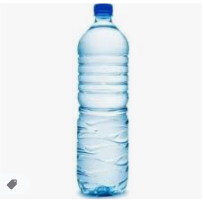Bottle: (75, 3, 128, 198)
